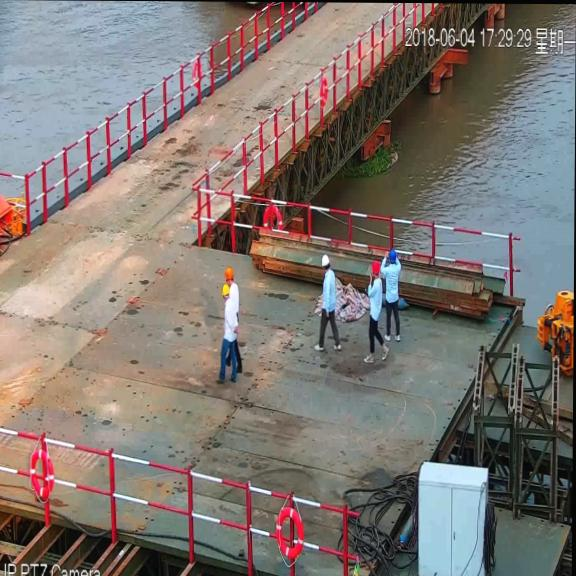no_safety_vest: (384, 262, 402, 306), (222, 303, 239, 345), (322, 272, 338, 314), (369, 279, 383, 323)
